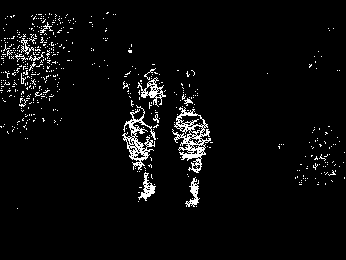person: (173, 99, 211, 207), (124, 107, 156, 200), (143, 64, 166, 109), (122, 63, 142, 108), (182, 65, 200, 105)
